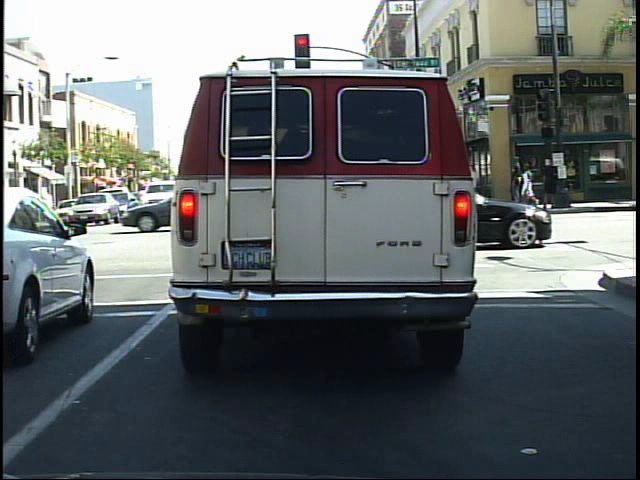person: (536, 154, 563, 215), (516, 157, 541, 214), (508, 152, 529, 207), (521, 160, 540, 213)
